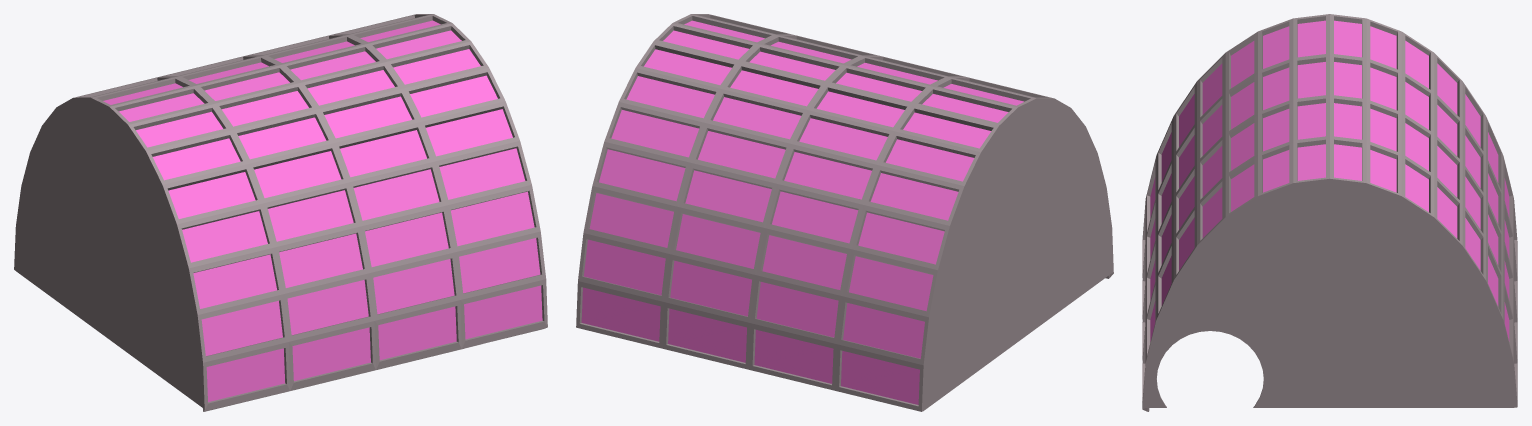
File: Halle.fbx
3 views of the same model, side by side, from view 1: azimuth 30°, elevation 25°; view 2: azimuth 150°, elevation 25°; view 3: azimuth 270°, elevation 25° (orthographic). The views are drawn at different scales.
Visible parts, largest first — view 1: Halle; view 2: Halle; view 3: Halle.
Boxes of the visible parts, x1,y1,x2,y2 form: Halle: (14, 14, 547, 411); Halle: (576, 14, 1113, 411); Halle: (1142, 14, 1517, 411).
Bounding box in the file's own units: 1453 × 962 × 1398.
